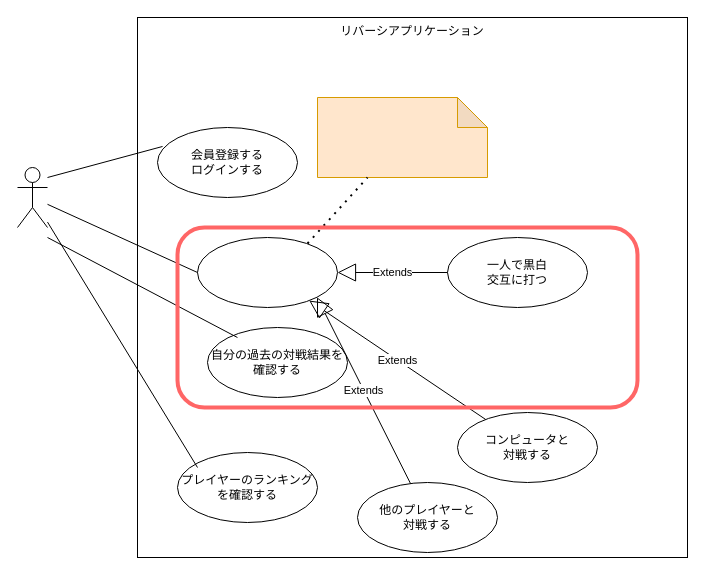
Image size: 705x575. Some labels were removed from this diagram. Here are the shapes that lost their labels. From the top down, the box of each, then its label:
(316, 96, 488, 178): ・対戦を開始する ・盤面を見る ・石を打つ ・勝敗を確認する
(16, 166, 48, 228): Actor
(196, 236, 338, 308): 対戦する
